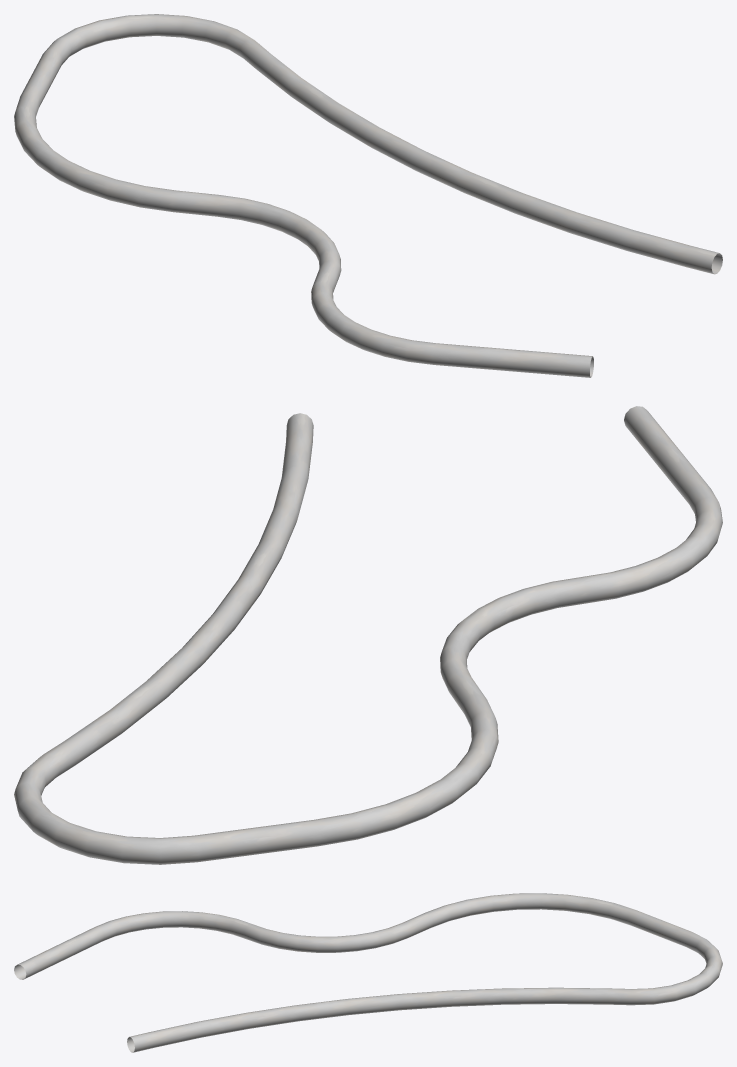
The model's file is Pipe__23.fbx.
3 views of the same model, one above another, from view 1: azimuth 30°, elevation 25°; view 2: azimuth 150°, elevation 25°; view 3: azimuth 270°, elevation 25° (orthographic). The views are drawn at different scales.
Parts seen in each view (by area): view 1: Pipe_Dark; view 2: Pipe_Dark; view 3: Pipe_Dark.
Boxes of the visible parts, x1=… form: Pipe_Dark: x1=14, y1=14, x2=722, y2=377; Pipe_Dark: x1=14, y1=406, x2=722, y2=864; Pipe_Dark: x1=14, y1=893, x2=722, y2=1052.
Bounding box in the file's own units: 1.74 × 0.08 × 3.47.
Materials: 1 (1 with a texture image).
